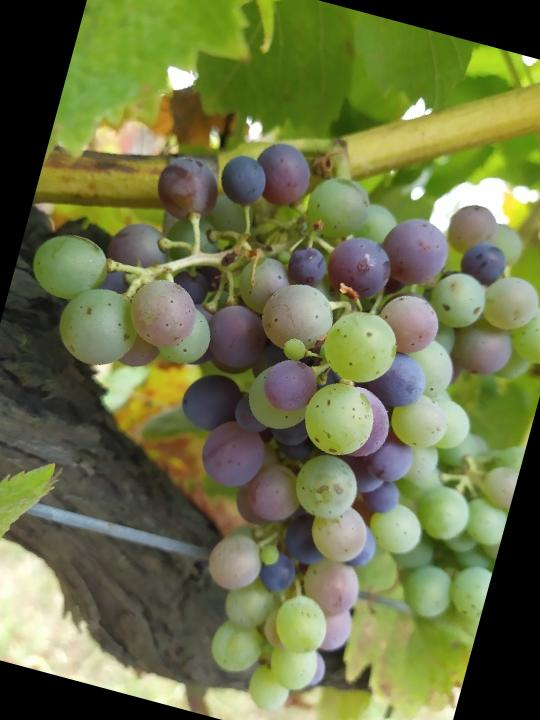grape: (0, 89, 540, 720)
